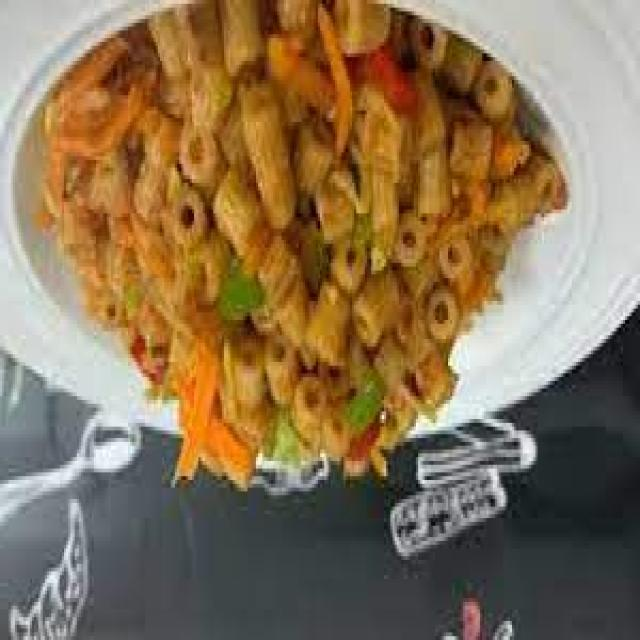Pasta: (53, 39, 534, 496)
